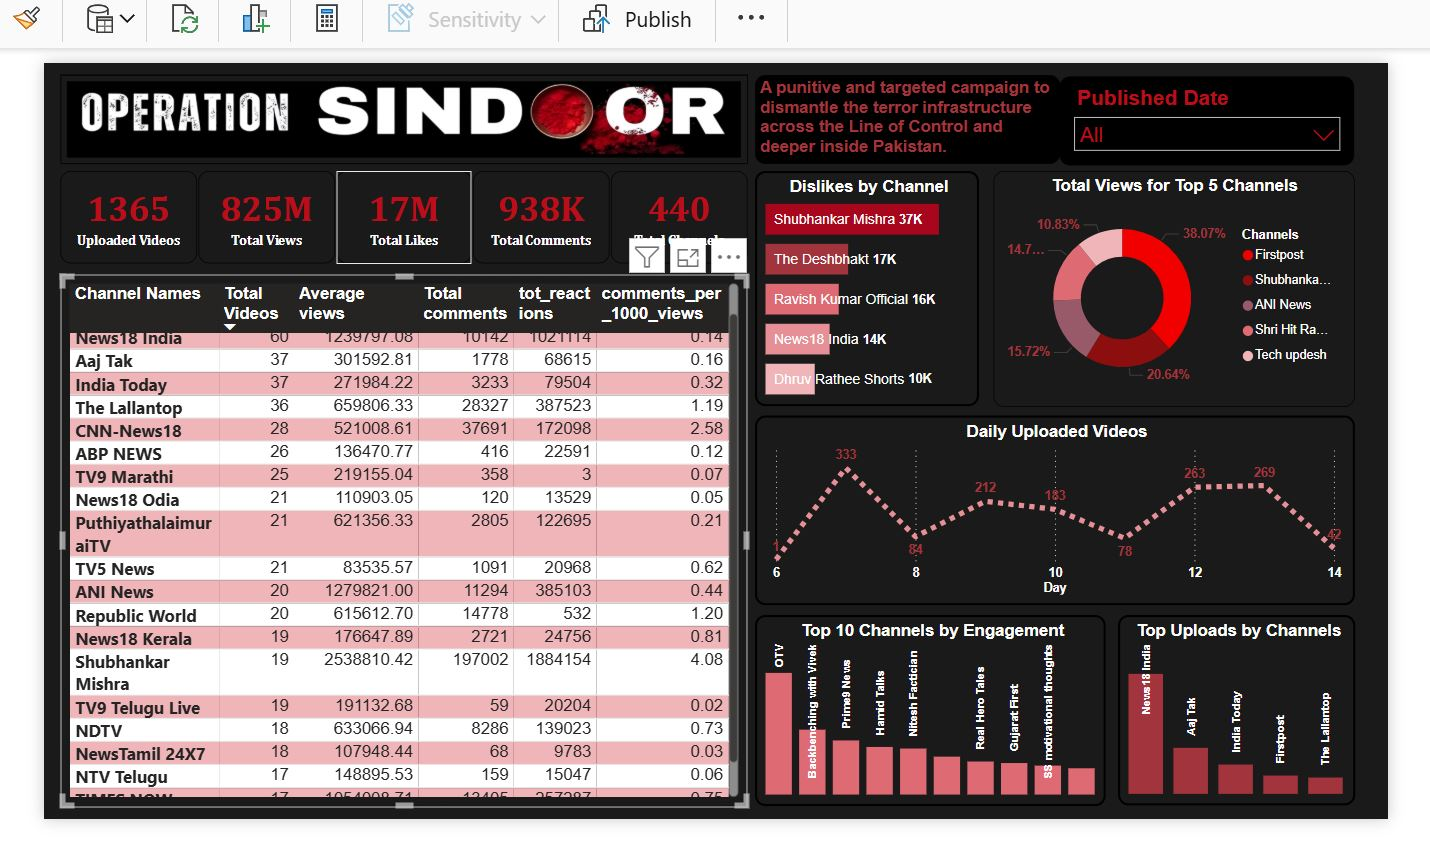

The page's visual inventory and layout, read from the dashboard file:
{"tool":"powerbi","page":{"name":"Dashboard","canvas":[1280,720],"ordinal":1},"visuals":[{"type":"card","fields":{"Values":["Operation_Sindoor_5_14_May.views"]},"box":[146.6,103,130.3,87.9],"z":0},{"type":"card","fields":{"Values":["Operation_Sindoor_5_14_May.likes"]},"box":[278,103,128.8,87.9],"z":1000},{"type":"card","fields":{"Values":["Operation_Sindoor_5_14_May.comments"]},"box":[408,103,130.3,87.9],"z":2000},{"type":"card","fields":{"Values":["Operation_Sindoor_5_14_May.video_id"]},"box":[15.2,103,130.3,87.9],"z":3000},{"type":"pivotTable","fields":{"Values":["Op_Sindoor_5_14_May.video_id","Operation_Sindoor_5_14_May.views","Op_Sindoor_5_14_May.comments","Op_Sindoor_5_14_May.tot_reactions","Op_Sindoor_5_14_May.comments_per_1000_views"],"Rows":["Op_Sindoor_5_14_May.channel"]},"box":[15.1,201.4,654.8,506.8],"z":4000},{"type":"lineChart","title":"Daily Uploaded Videos","fields":{"Category":["Op_Sindoor_5_14_May.published_date.Variation.Date Hierarchy.Day"],"Y":["Op_Sindoor_5_14_May.video_id"]},"box":[676.7,335.6,571.2,180.8],"z":5000},{"type":"slicer","fields":{"Values":["Op_Sindoor_5_14_May.published_date"]},"box":[967.1,12.3,280.8,84.9],"z":6000},{"type":"donutChart","title":"Total Views for Top 5 Channels","fields":{"Category":["Op_Sindoor_YTdata_9_11_May.channel"],"Y":["Op_Sindoor_YTdata_9_11_May.views"]},"box":[904.1,102.7,343.8,224.7],"z":7000},{"type":"image","box":[15.2,12.1,654.5,84.8],"z":8000},{"type":"textbox","box":[676.8,12.1,290.7,84.8],"z":9000},{"type":"barChart","title":"Dislikes by Channel","fields":{"Category":["Op_Sindoor_5_14_May.channel"],"Y":["Op_Sindoor_5_14_May.dislikes"]},"box":[676.8,103,213.5,224.1],"z":10000},{"type":"card","fields":{"Values":["Op_Sindoor_5_14_May.channel"]},"box":[539.4,103,130.3,87.9],"z":11000},{"type":"columnChart","title":"Top 10 Channels by Engagement","fields":{"Category":["Op_Sindoor_5_14_May.channel"],"Y":["Op_Sindoor_5_14_May.reactions_per_comment_filtered"]},"box":[676.7,526,334.2,182.2],"z":12000},{"type":"columnChart","title":"Top Uploads by Channels","fields":{"Category":["Op_Sindoor_5_14_May.channel"],"Y":["Op_Sindoor_5_14_May.reactions_per_comment_filtered"]},"box":[1023.1,526.2,226.2,181.5],"z":13000}]}

Visuals, with their boxes on the page's 1280x720 design canvas (x1, y1, x2, y2). These are canvas units, not pixel positions in the 1430x857 screenshot, which may show the page scaled, cropped or inside an application window:
card - Operation_Sindoor_5_14_May.views: (left=147, top=103, right=277, bottom=191)
card - Operation_Sindoor_5_14_May.likes: (left=278, top=103, right=407, bottom=191)
card - Operation_Sindoor_5_14_May.comments: (left=408, top=103, right=538, bottom=191)
card - Operation_Sindoor_5_14_May.video_id: (left=15, top=103, right=146, bottom=191)
pivotTable - Op_Sindoor_5_14_May.video_id x Operation_Sindoor_5_14_May.views: (left=15, top=201, right=670, bottom=708)
"Daily Uploaded Videos" lineChart: (left=677, top=336, right=1248, bottom=516)
slicer - Op_Sindoor_5_14_May.published_date: (left=967, top=12, right=1248, bottom=97)
"Total Views for Top 5 Channels" donutChart: (left=904, top=103, right=1248, bottom=327)
image: (left=15, top=12, right=670, bottom=97)
textbox: (left=677, top=12, right=968, bottom=97)
"Dislikes by Channel" barChart: (left=677, top=103, right=890, bottom=327)
card - Op_Sindoor_5_14_May.channel: (left=539, top=103, right=670, bottom=191)
"Top 10 Channels by Engagement" columnChart: (left=677, top=526, right=1011, bottom=708)
"Top Uploads by Channels" columnChart: (left=1023, top=526, right=1249, bottom=708)
